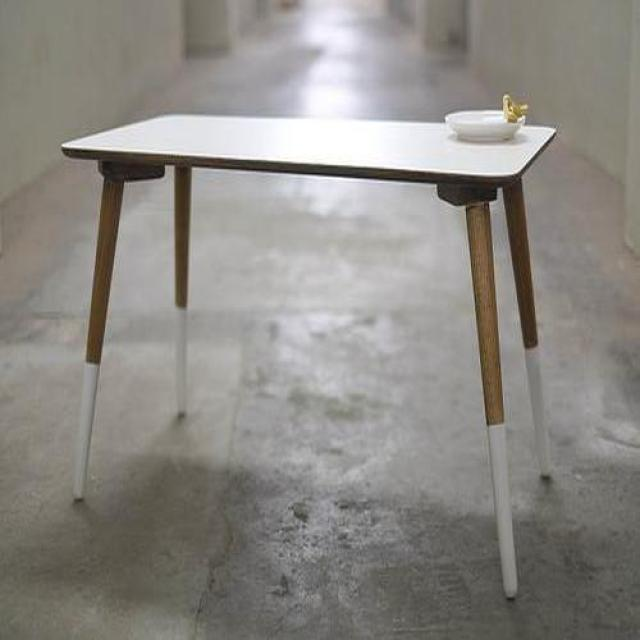table: (63, 110, 557, 602)
